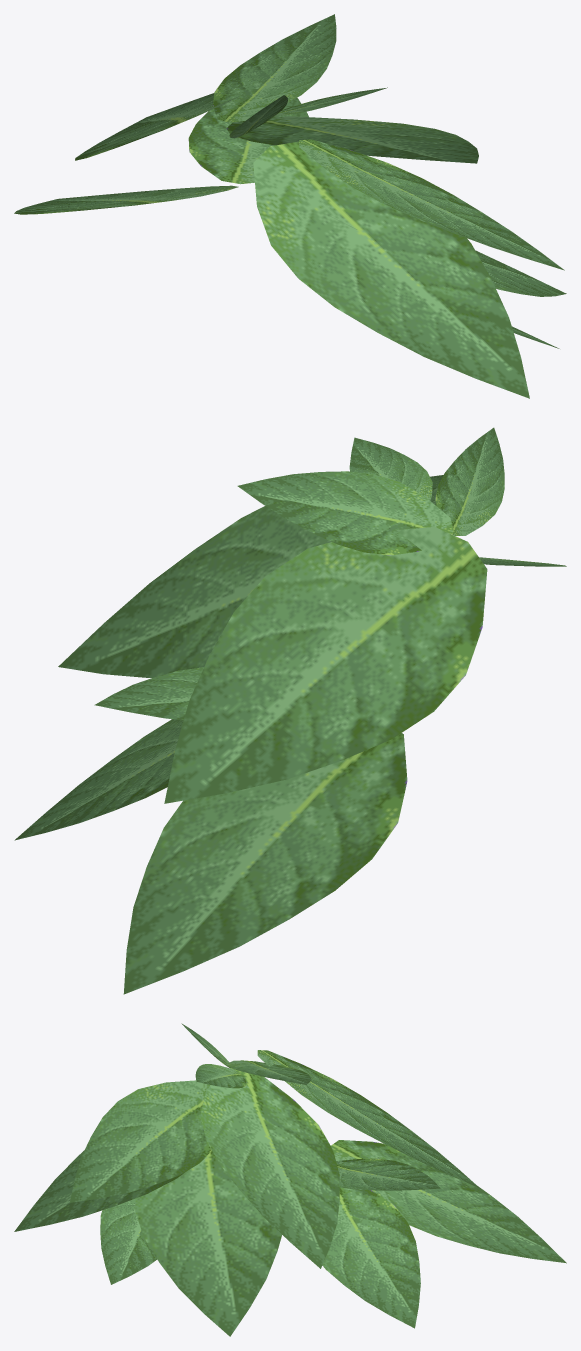
The model's file is small-leaf-bunch.glb.
3 renders of one model, top to bottom at view 1: azimuth 30°, elevation 25°; view 2: azimuth 150°, elevation 25°; view 3: azimuth 270°, elevation 25°, orthographic. The views are drawn at different scales.
Visible parts, largest first — view 1: Plane.008, Plane.001, Plane.006, Plane.002, Plane.005, Plane.010, Plane.003, Plane, Plane.007, Plane.009; view 2: Plane.003, Plane.010, Plane.002, Plane.006, Plane.004, Plane.009, Plane.005, Plane.007; view 3: Plane.002, Plane, Plane.001, Plane.004, Plane.010, Plane.003, Plane.011, Plane.008, Plane.005, Plane.006, Plane.007.
Boxes of the visible parts, x1,y1,x2,y2 form: Plane.008: (253,141,529,398); Plane.001: (299,139,564,270); Plane.006: (213,14,336,122); Plane.002: (226,116,478,163); Plane.005: (188,98,308,184); Plane.010: (14,185,238,214); Plane.003: (75,93,241,160); Plane: (330,216,566,296); Plane.007: (274,87,387,116); Plane.009: (229,95,287,138); Plane.003: (164,527,487,803); Plane.010: (123,733,407,994); Plane.002: (58,506,331,677); Plane.006: (237,471,453,555); Plane.004: (14,719,183,840); Plane.009: (435,427,504,535); Plane.005: (94,667,203,720); Plane.007: (349,437,432,500); Plane.002: (200,1068,339,1268); Plane: (135,1151,281,1336); Plane.001: (70,1080,211,1202); Plane.004: (322,1187,420,1328); Plane.010: (331,1140,566,1263); Plane.003: (257,1050,479,1188); Plane.011: (100,1198,157,1284); Plane.008: (14,1150,186,1231); Plane.005: (335,1158,440,1190); Plane.006: (227,1060,311,1084); Plane.007: (195,1064,246,1088).
Bounding box in the file's own units: 2.47 × 1.89 × 4.27.
Materials: 1 (1 with a texture image).
